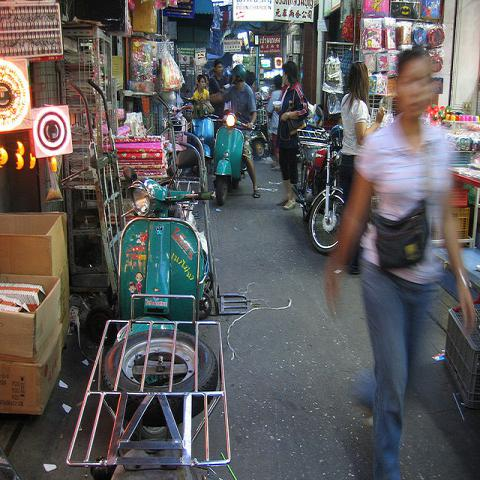motorcycle: (293, 138, 344, 254), (212, 114, 250, 202)
